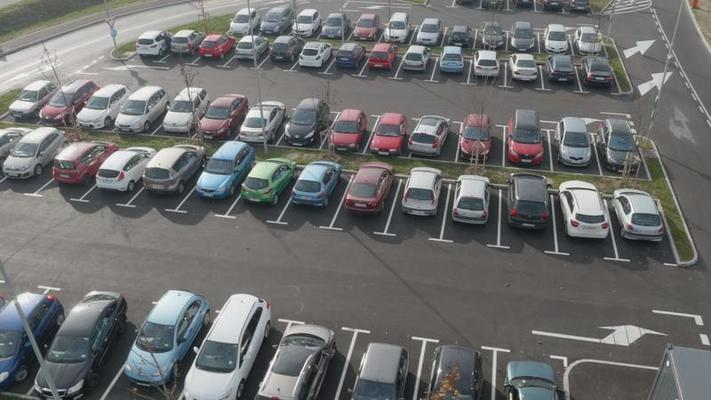car: (345, 155, 396, 216), (561, 178, 607, 242), (615, 185, 662, 245), (291, 154, 337, 214), (507, 171, 550, 233), (401, 163, 444, 225), (450, 167, 493, 229), (504, 106, 547, 166), (284, 94, 328, 145), (364, 110, 410, 152), (289, 35, 334, 69), (434, 41, 466, 81), (507, 48, 541, 84), (469, 43, 503, 79), (543, 48, 577, 84), (582, 53, 616, 89), (363, 37, 397, 73)
